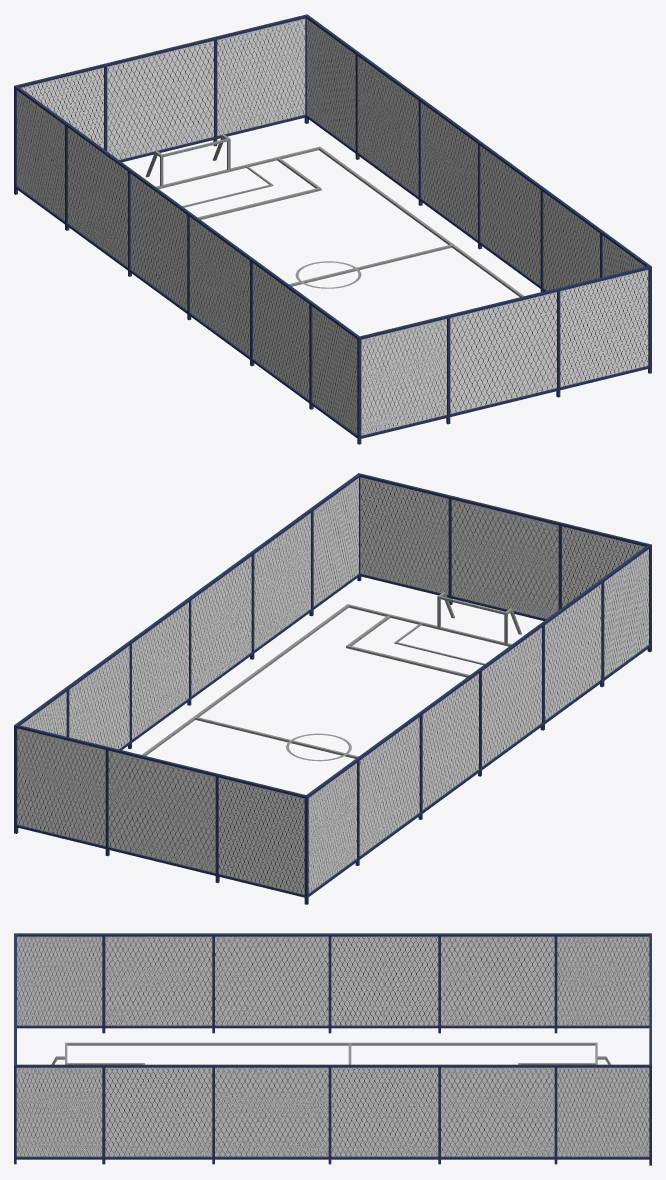
The model's file is lapangan.fbx.
3 views of the same model, one above another, from view 1: azimuth 30°, elevation 25°; view 2: azimuth 150°, elevation 25°; view 3: azimuth 270°, elevation 25° (orthographic). The views are drawn at different scales.
Parts seen in each view (by area): view 1: Plane.002, Plane.001; view 2: Plane.002, Plane.001; view 3: Plane.002, Plane.001.
Part boxes in pixels (<box>): Plane.002: <box>17,18,648,435</box>; Plane.001: <box>14,14,651,444</box>; Plane.002: <box>17,477,648,894</box>; Plane.001: <box>14,473,651,904</box>; Plane.002: <box>16,936,649,1156</box>; Plane.001: <box>14,933,651,1165</box>.
Size of the model in its own units: 71.05 by 25.27 by 145.
3 materials, 1 textured.
